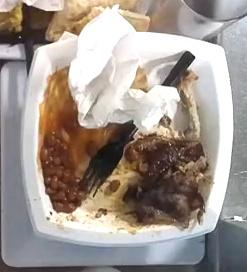unknown: (123, 134, 211, 227)
vegetables: (40, 129, 85, 213)
